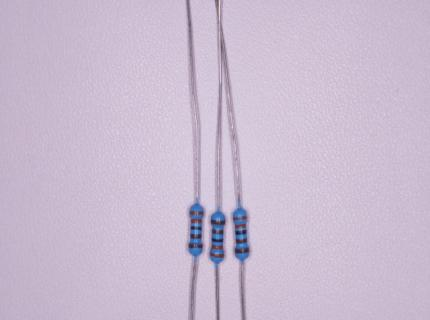Black band: (235, 229, 247, 235), (212, 238, 223, 242), (190, 227, 201, 230)
Brown band: (235, 248, 249, 253), (211, 219, 225, 224), (236, 238, 247, 244), (212, 229, 224, 234), (188, 244, 202, 248), (190, 234, 201, 239)
Orange band: (210, 252, 224, 258), (189, 211, 203, 215), (233, 216, 247, 220), (211, 244, 222, 249), (235, 224, 246, 228), (191, 219, 201, 223)
